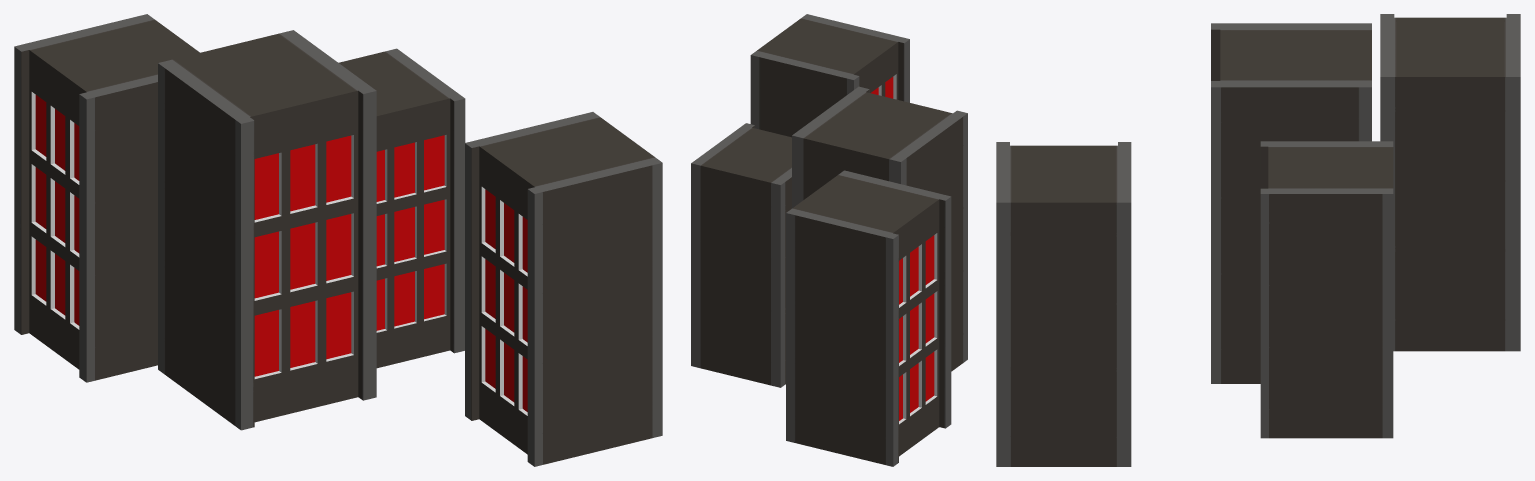
The model's file is title_bill.gltf.
3 renders of one model, left to right at view 1: azimuth 30°, elevation 25°; view 2: azimuth 150°, elevation 25°; view 3: azimuth 270°, elevation 25°, orthographic. The views are drawn at different scales.
Parts seen in each view (by area): view 1: bomb_bill2, bomb_bill3, bomb_bill1, bomb_bill4; view 2: bomb_bill1, bomb_bill4, bomb_bill2, bomb_bill3; view 3: bomb_bill1, bomb_bill3, bomb_bill4, bomb_bill2.
Part boxes in pixels (bbox=[...]): bomb_bill2: bbox=[158, 30, 376, 430]; bomb_bill3: bbox=[465, 112, 662, 466]; bomb_bill1: bbox=[14, 14, 199, 382]; bomb_bill4: bbox=[338, 48, 465, 368]; bomb_bill1: bbox=[786, 170, 951, 466]; bomb_bill4: bbox=[691, 123, 791, 387]; bomb_bill2: bbox=[792, 86, 967, 371]; bomb_bill3: bbox=[750, 14, 909, 137]; bomb_bill1: bbox=[1380, 14, 1520, 351]; bomb_bill3: bbox=[996, 142, 1131, 466]; bomb_bill4: bbox=[1260, 141, 1393, 438]; bomb_bill2: bbox=[1211, 23, 1371, 383].
Size of the model in its own units: 6 by 4.65 by 7.44.
